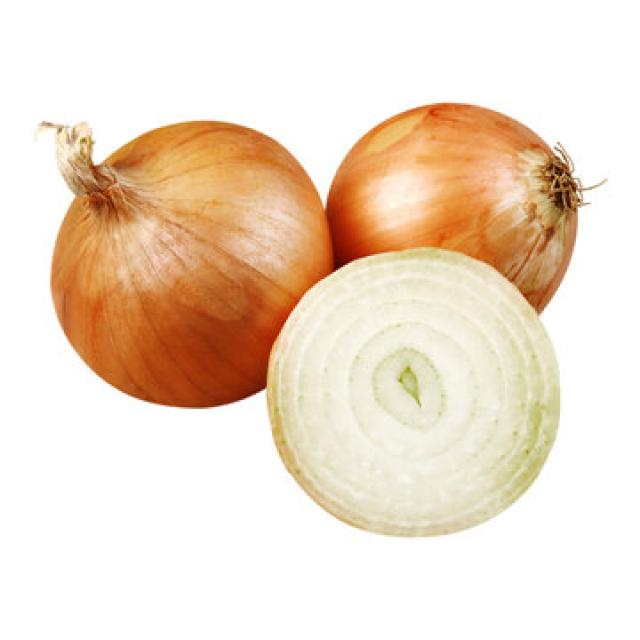Onion: (36, 115, 334, 409), (263, 245, 560, 537), (326, 100, 604, 314)
